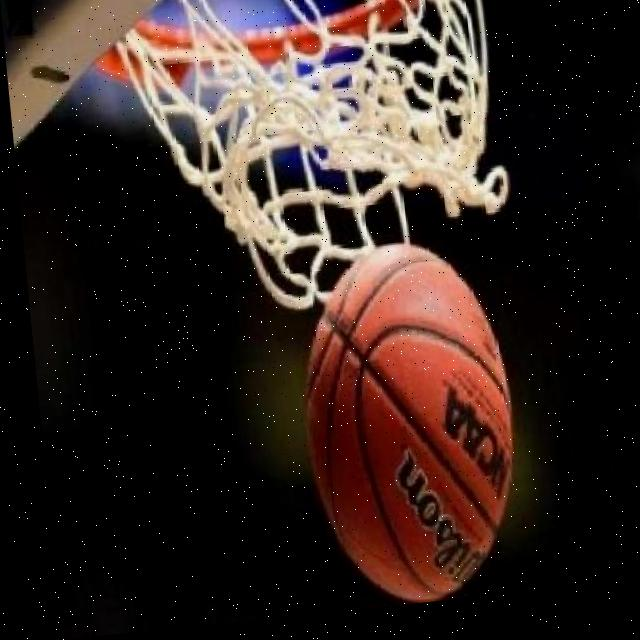Basketball: (295, 234, 531, 611)
